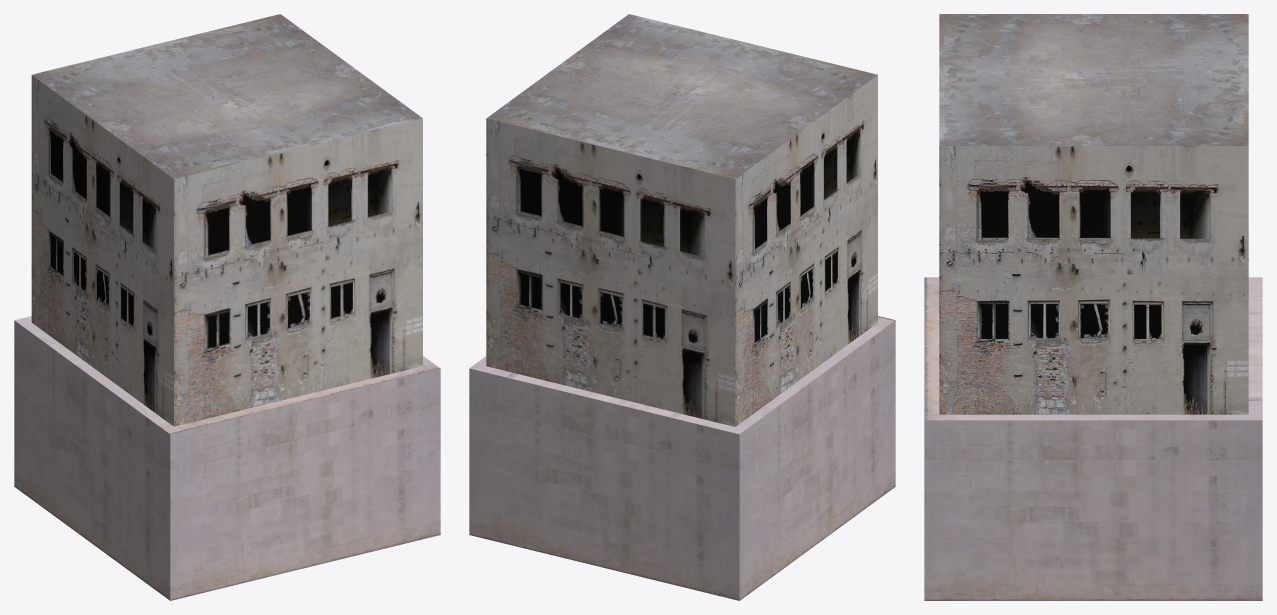
File: BagBuilding23_0.fbx
The picture shows the model from 3 angles, left to right: view 1: azimuth 30°, elevation 25°; view 2: azimuth 150°, elevation 25°; view 3: azimuth 270°, elevation 25°; orthographic projection. The views are drawn at different scales.
Parts seen in each view (by area): view 1: walls0, basement0, roofs0; view 2: walls0, basement0, roofs0; view 3: walls0, basement0, roofs0.
Part boxes in pixels (x1,y1,x2,y2): walls0: [31, 75, 422, 426]; basement0: [14, 316, 440, 600]; roofs0: [32, 14, 422, 178]; walls0: [486, 75, 877, 426]; basement0: [469, 316, 895, 600]; roofs0: [486, 14, 877, 178]; walls0: [939, 146, 1248, 414]; basement0: [924, 277, 1262, 600]; roofs0: [939, 14, 1248, 145].
Bounding box in the file's own units: 19.41 × 28.43 × 19.41.
